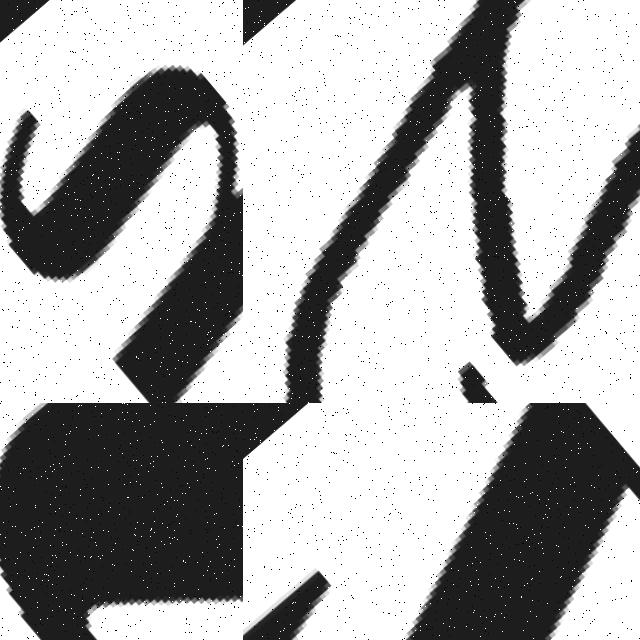M: (0, 0, 243, 403)
S: (0, 403, 243, 640)
Y: (243, 0, 640, 403)
Z: (243, 403, 640, 640)
